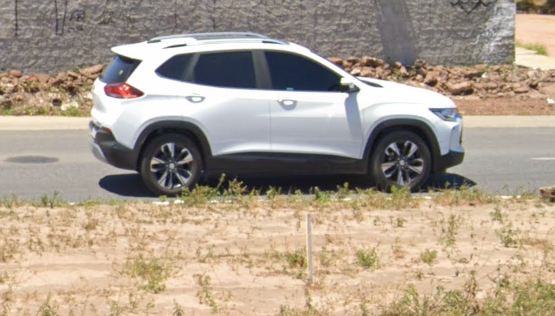car: (87, 31, 467, 199)
